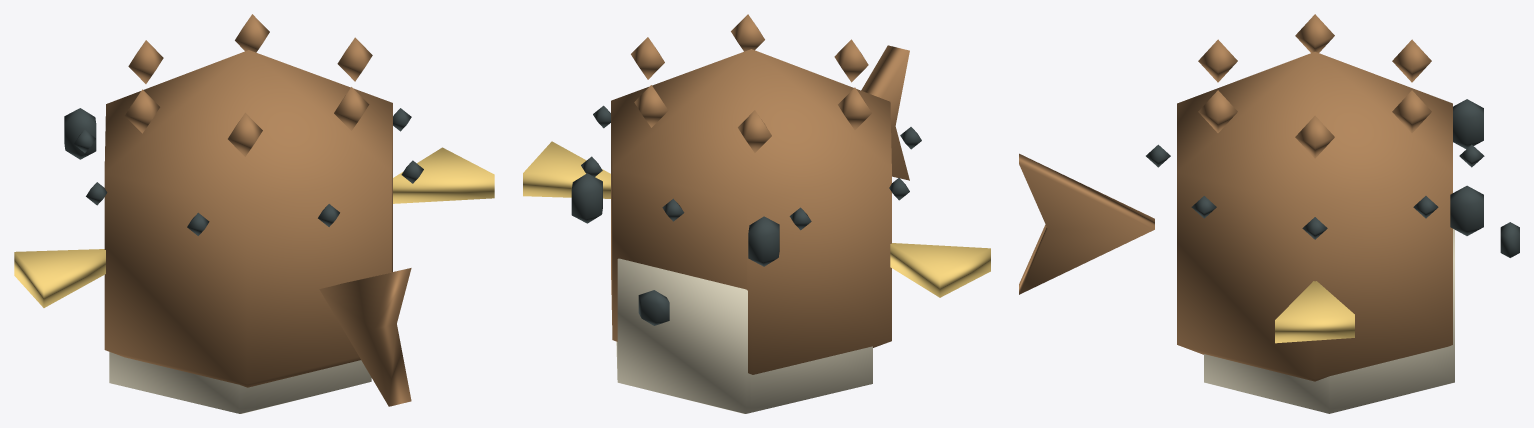
The model's file is fish_pufferfish_low.glb.
The picture shows the model from 3 angles, left to right: view 1: azimuth 30°, elevation 25°; view 2: azimuth 150°, elevation 25°; view 3: azimuth 270°, elevation 25°; orthographic projection. The views are drawn at different scales.
Bounding box in the file's own units: 0.3 × 0.2349 × 0.2953.
